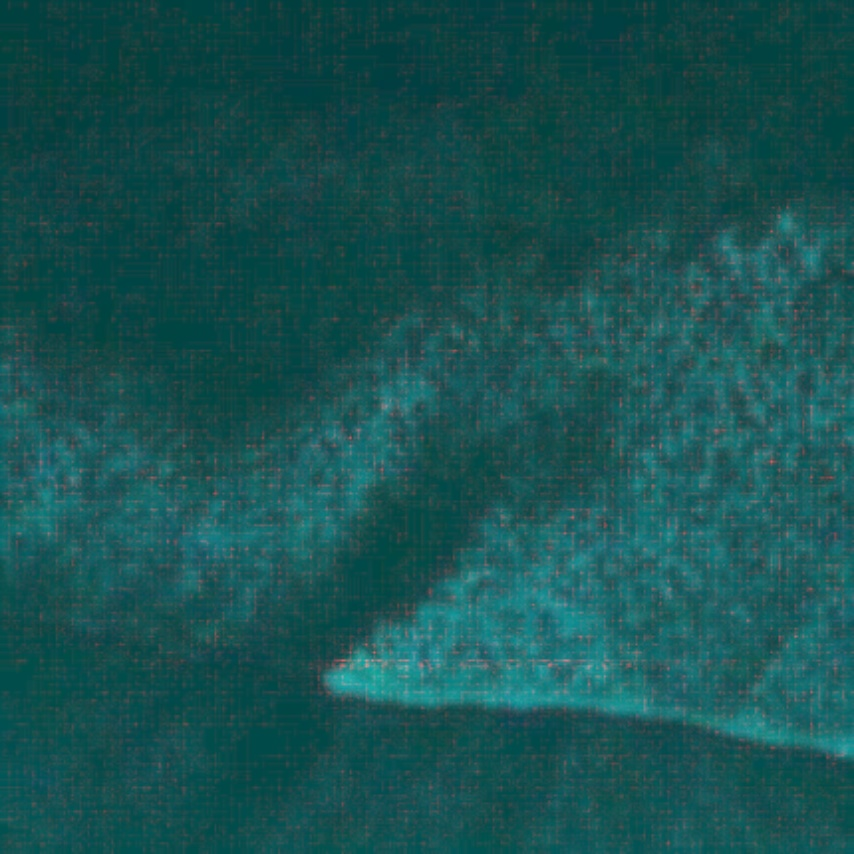rip_current: (229, 348, 652, 734)
